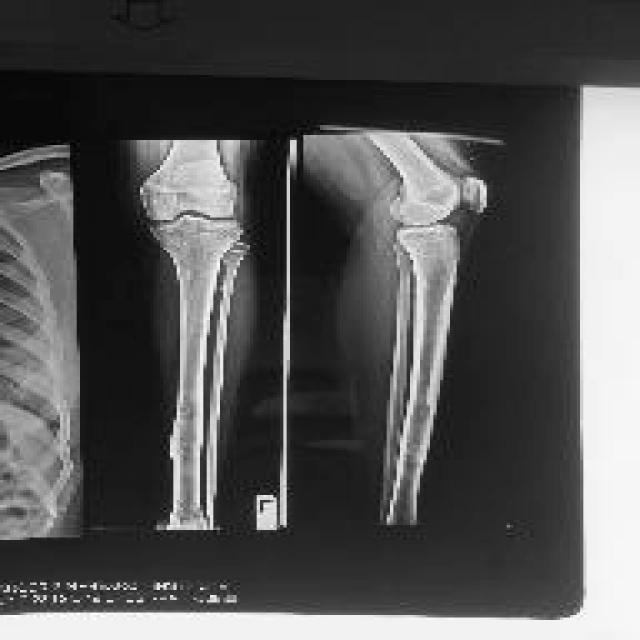bone-cancer: (393, 380, 438, 497), (167, 365, 205, 494)
